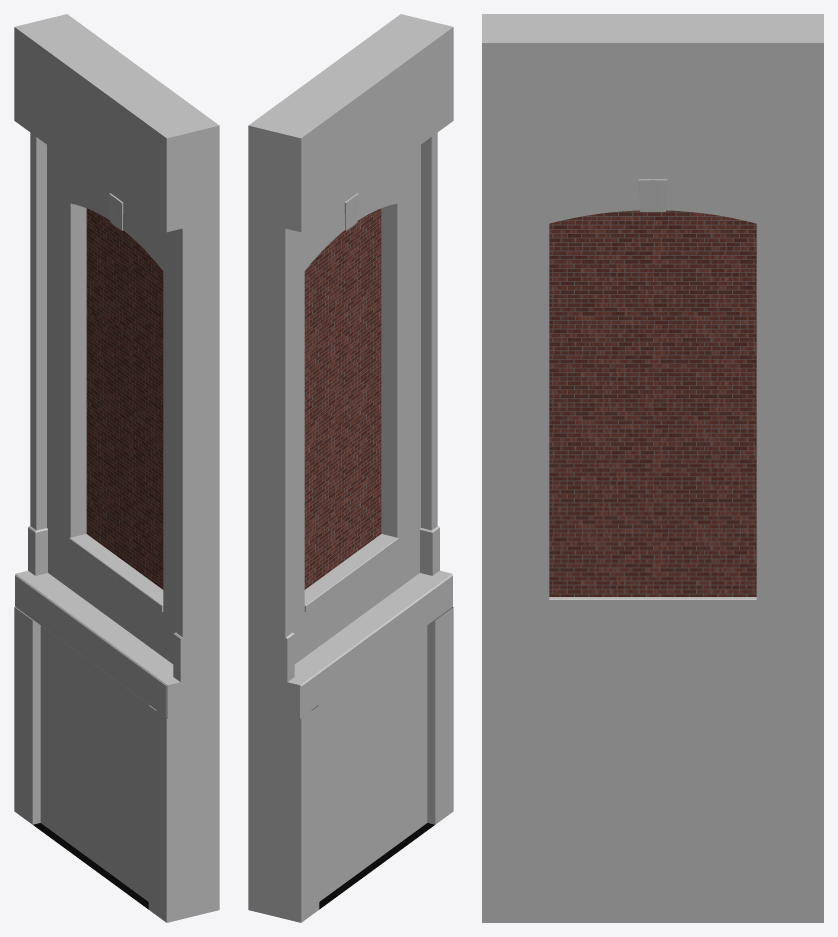
Rendered from Wall.fbx.
3 renders of one model, left to right at view 1: azimuth 30°, elevation 25°; view 2: azimuth 150°, elevation 25°; view 3: azimuth 270°, elevation 25°, orthographic. The views are drawn at different scales.
Parts seen in each view (by area): view 1: Wall, FloorFoundation; view 2: Wall, FloorFoundation; view 3: Wall, FloorFoundation.
Part boxes in pixels (left/top/right/bottom): Wall: left=14, top=14, right=219, bottom=681; FloorFoundation: left=14, top=570, right=219, bottom=922; Wall: left=248, top=14, right=453, bottom=681; FloorFoundation: left=248, top=570, right=453, bottom=922; Wall: left=482, top=14, right=823, bottom=656; FloorFoundation: left=482, top=656, right=823, bottom=922.
Bounding box in the file's own units: 103 × 1420 × 500.
